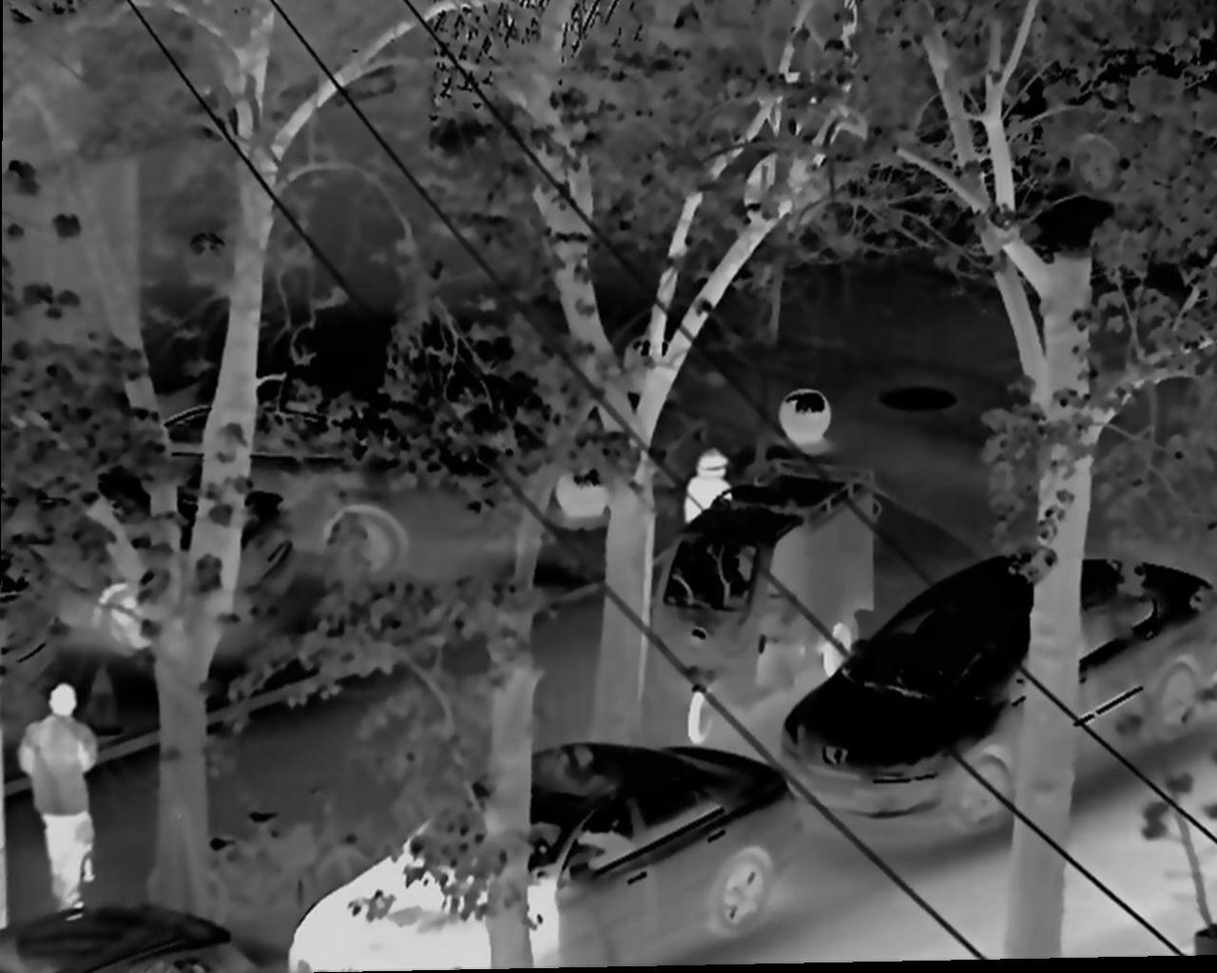person: (16, 679, 106, 916), (683, 443, 737, 531)
